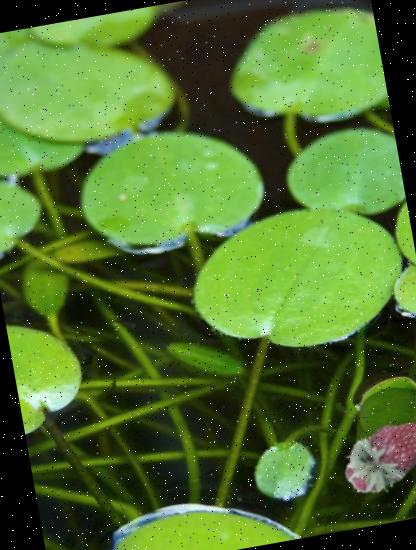Strawberry: (330, 399, 416, 508)
